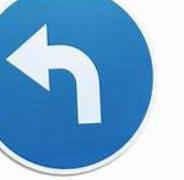left: (2, 1, 156, 174)
